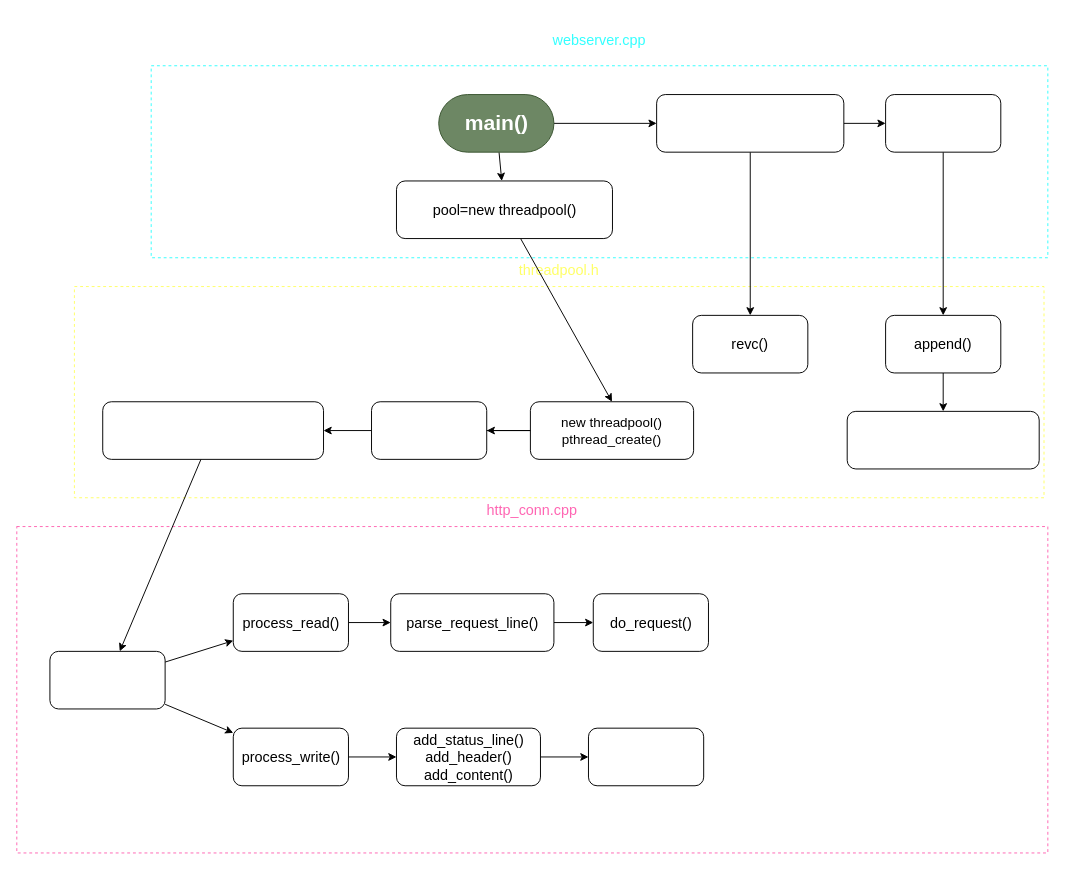
Image size: 1065x870. Some labels were removed from this diagram. Here are the shapes that lost their labels. From the top down, the centre of each, then its label:
(x=750, y=123): user[sockfd].read()
(x=943, y=123): pool->append()
(x=213, y=430): run() myqueue.front() process()
(x=429, y=430): worker() run()
(x=942, y=439): myqueue.push_back()
(x=107, y=679): process()
(x=646, y=756): add_response()
